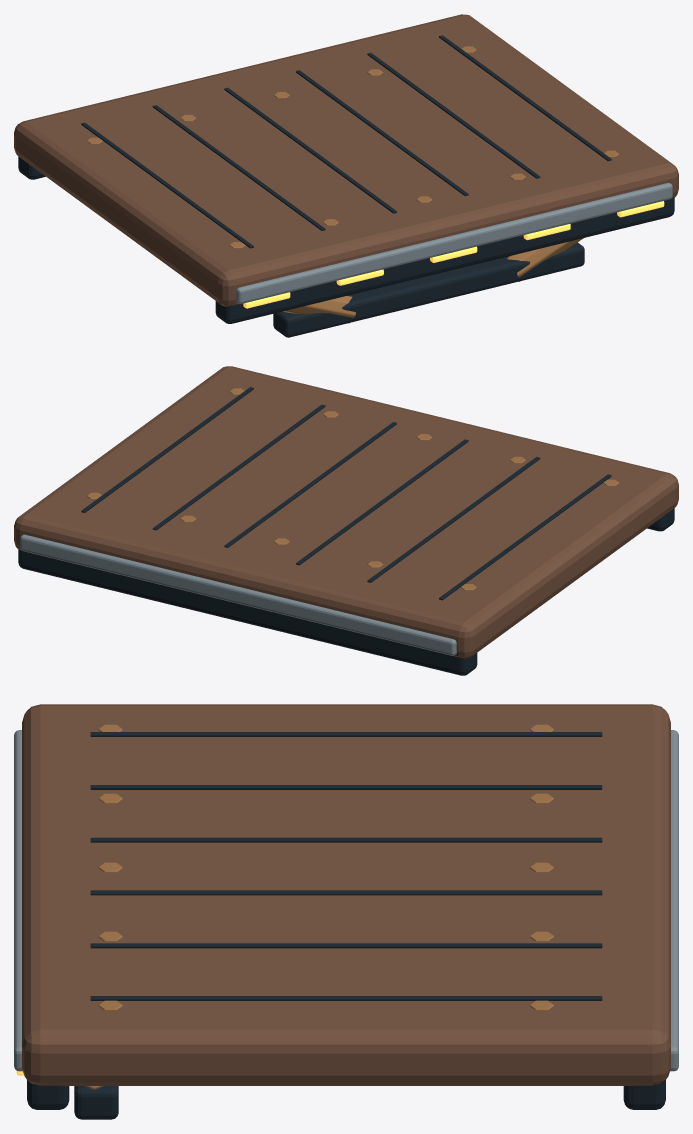
The model's file is traverse_ledge.glb.
The picture shows the model from 3 angles, top to bottom: view 1: azimuth 30°, elevation 25°; view 2: azimuth 150°, elevation 25°; view 3: azimuth 270°, elevation 25°; orthographic projection. The views are drawn at different scales.
Parts seen in each view (by area): view 1: traverse_ledge; view 2: traverse_ledge; view 3: traverse_ledge.
Boxes of the visible parts, bbox=[...] form: traverse_ledge: bbox=[14, 14, 678, 337]; traverse_ledge: bbox=[14, 366, 678, 675]; traverse_ledge: bbox=[14, 704, 678, 1119].
Bounding box in the file's own units: 3.98 × 0.8298 × 3.3.
